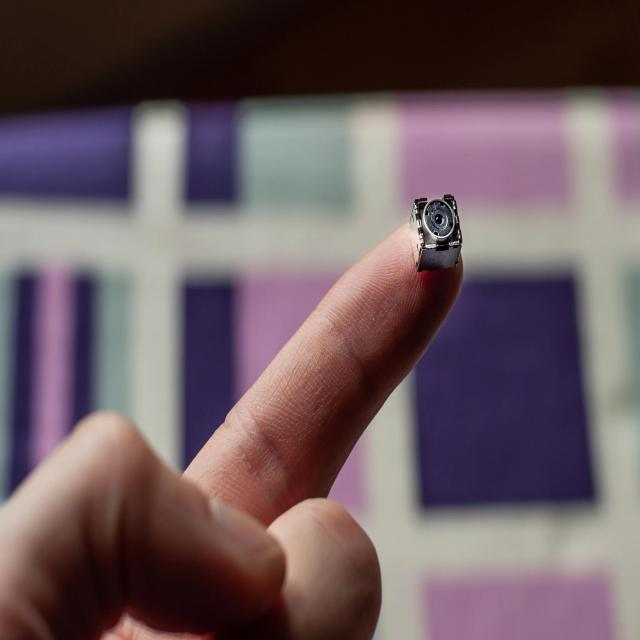hidden camera: (435, 213, 443, 224)
